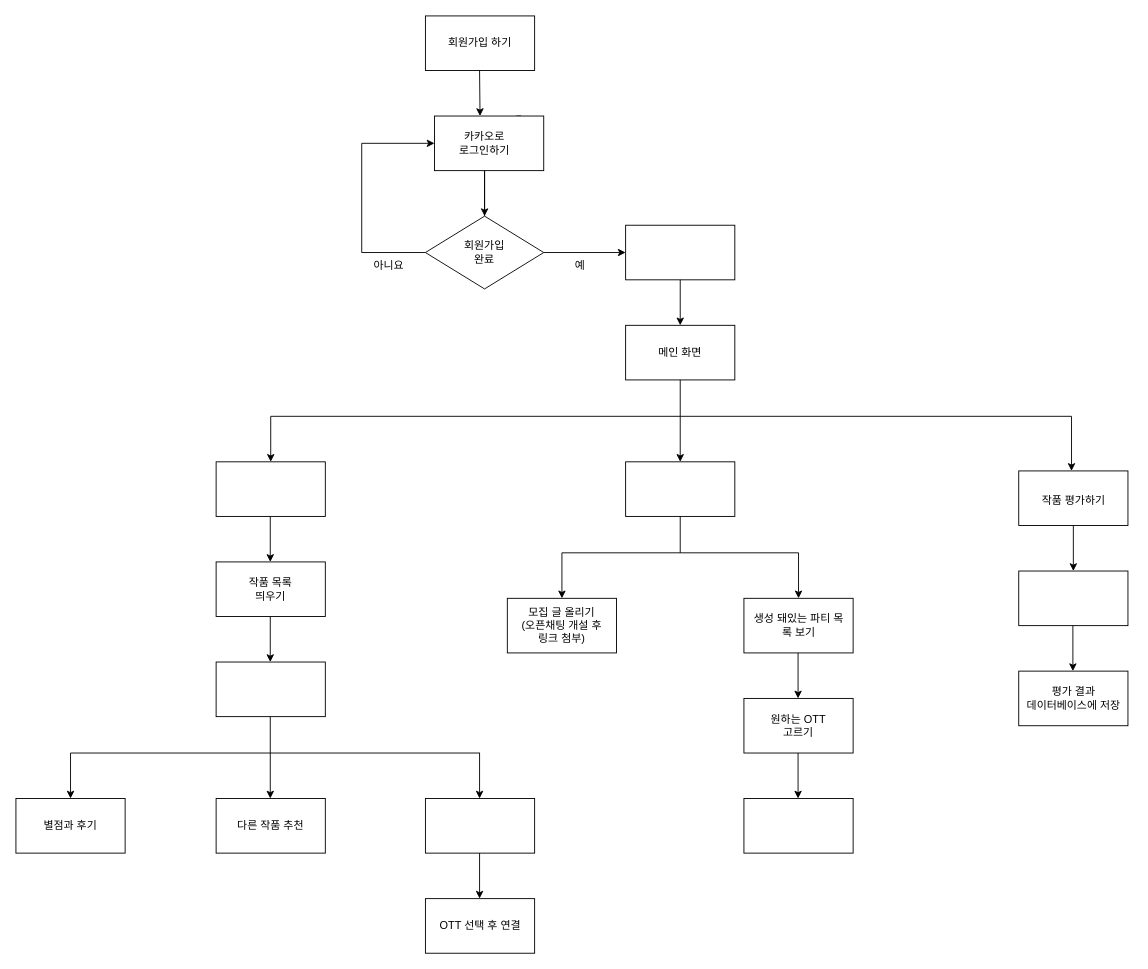
Image size: 1148x969. Some labels were removed from this diagram. The centre of each missing label's shape, as x and y in pixels:
랜덤으로 띄워주는 작품 평가: [1073,598]
작품 검색: [270,488]
작품 선택: [270,689]
작품 평가: [680,252]
작품에 해당하는 OTT 목록: [480,825]
파티 선택하기: [798,825]
파티원 구하기 커뮤니티: [680,488]
